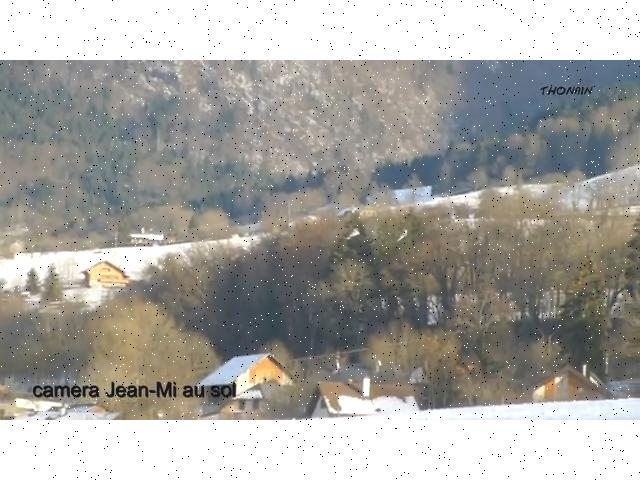Anti-Drone: (388, 226, 414, 246)
